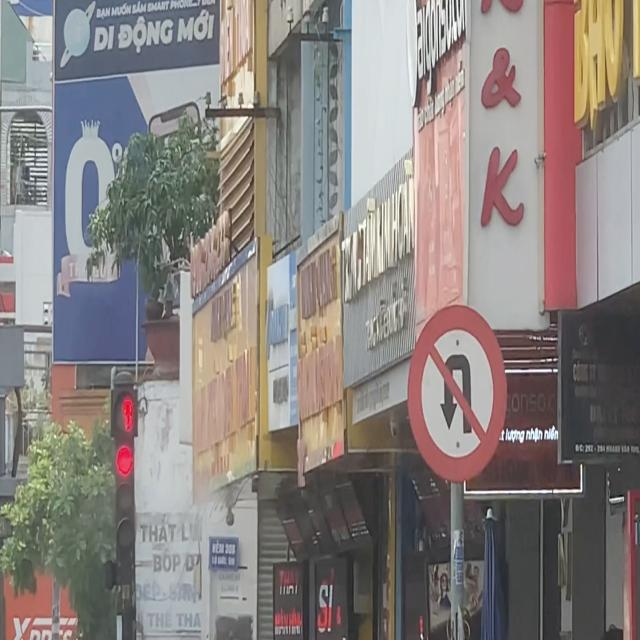Cam quay dau xe: (410, 302, 510, 479)
